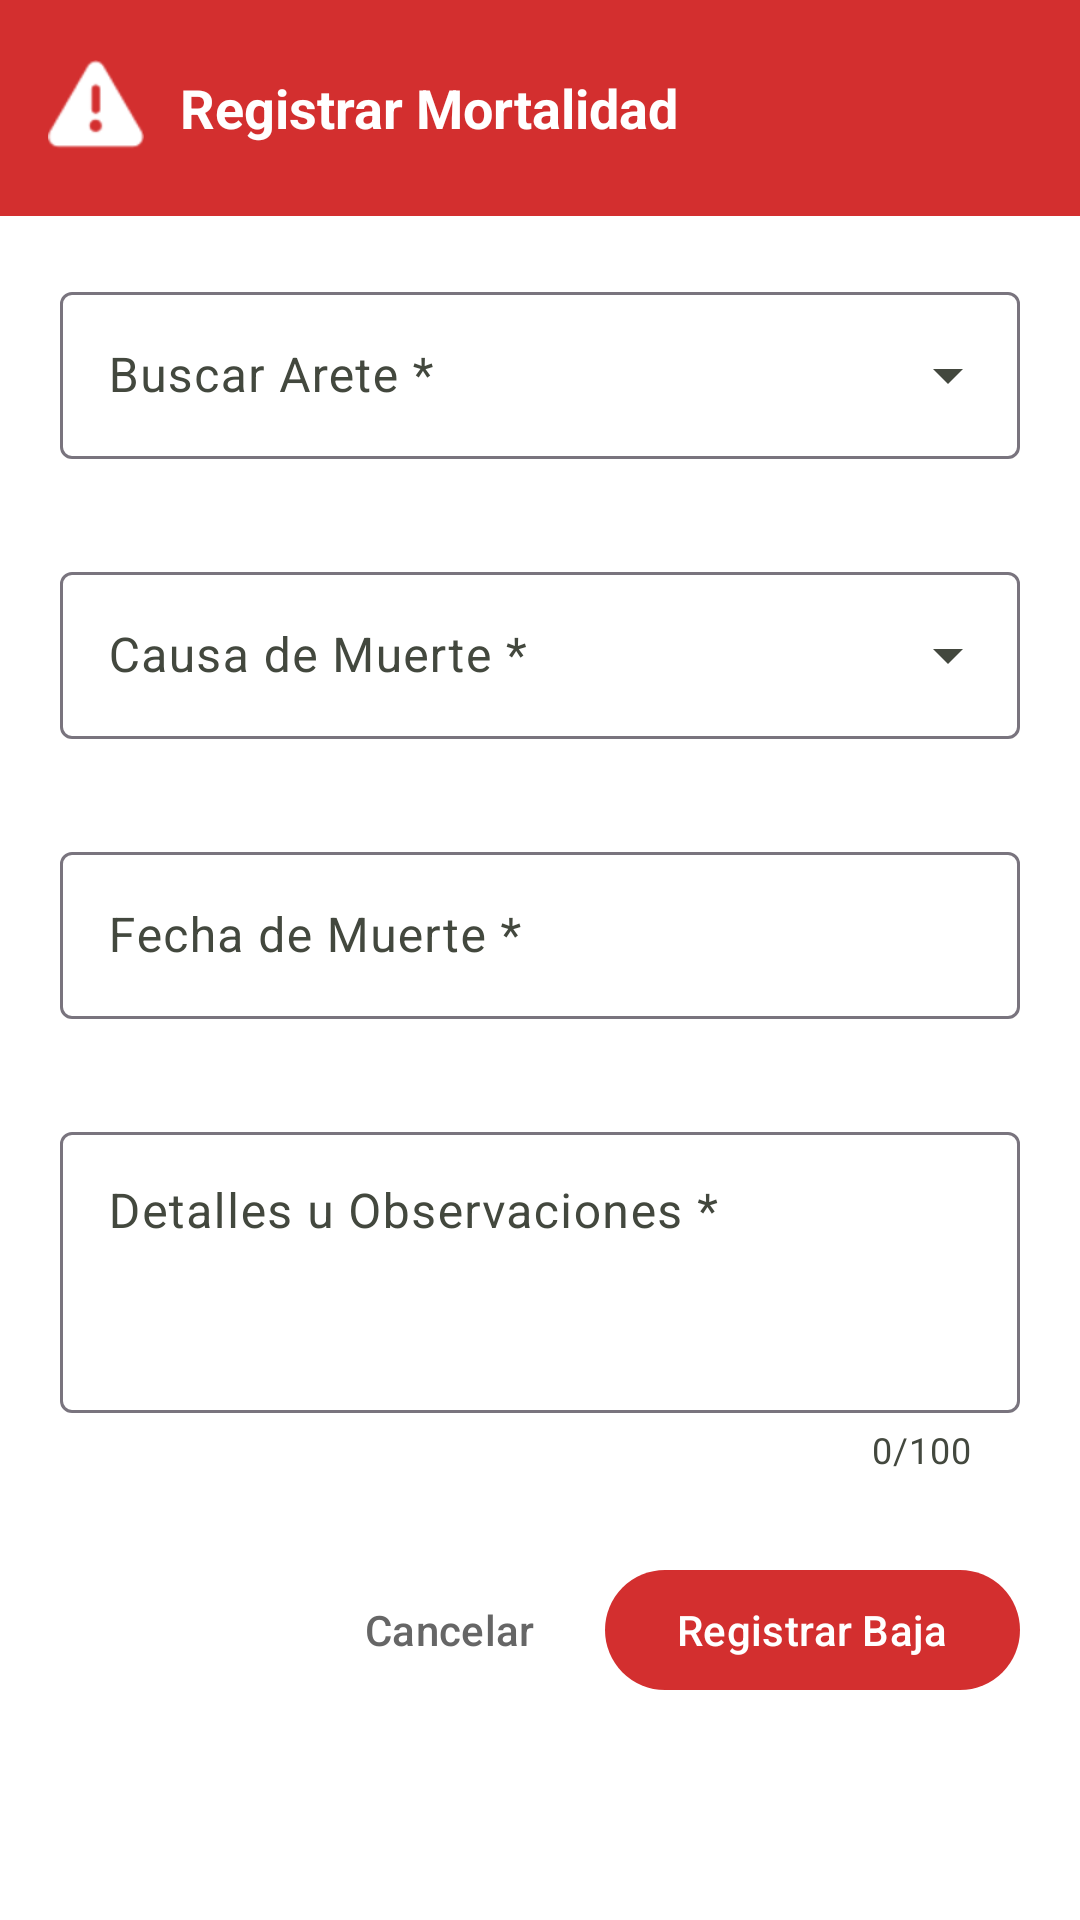

Screen size 1080px×1920px. Icon name, then its center in pixels as (x=x, y=y):
alert: (x=96, y=104)
